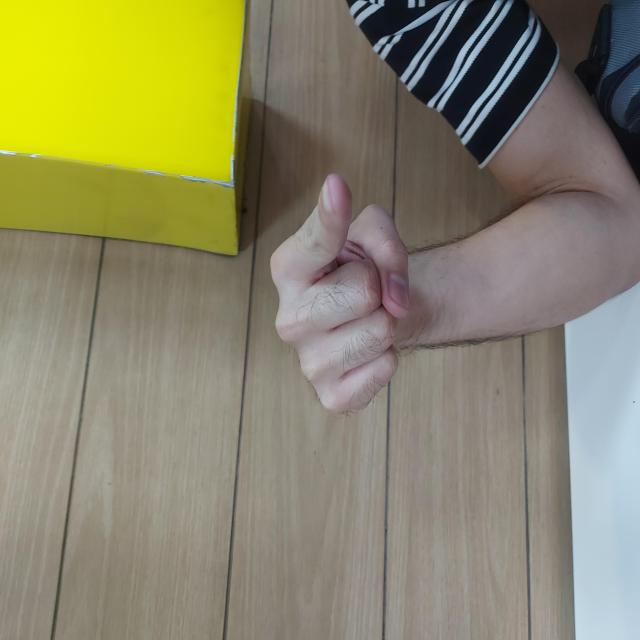Z: (225, 267, 469, 413)
